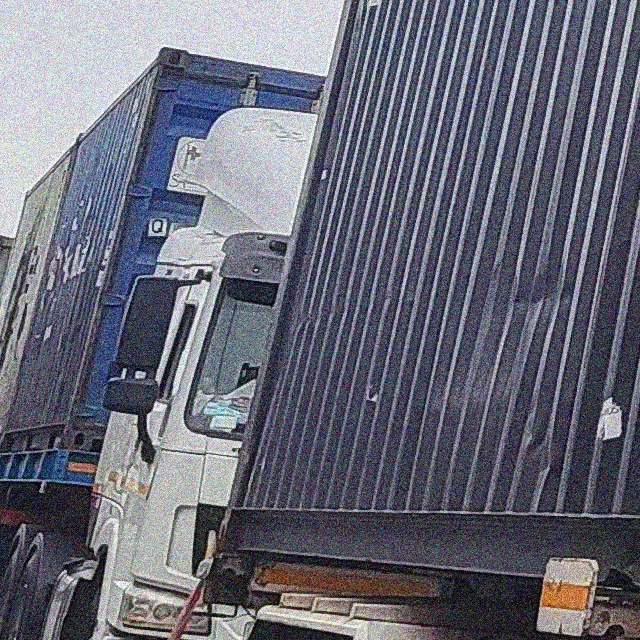Dent: (511, 408, 564, 483)
